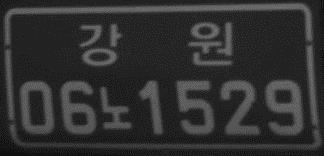0: (18, 79, 55, 137)
1: (136, 78, 167, 137)
2: (220, 76, 260, 139)
5: (173, 76, 216, 138)
6: (58, 76, 96, 137)
9: (264, 78, 305, 137)
강원_D: (77, 16, 237, 69)
노: (96, 83, 135, 132)
